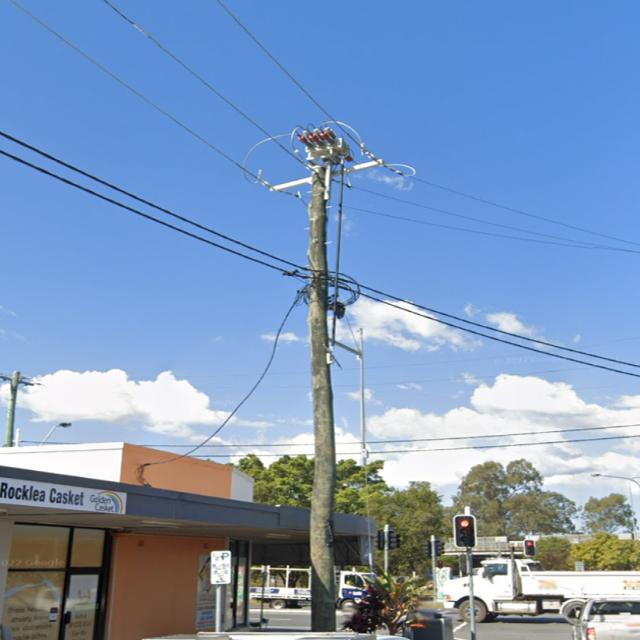HV-switch: (297, 126, 355, 168)
crossarm: (257, 152, 404, 199), (0, 374, 35, 386)
steel-pole: (464, 505, 476, 640), (430, 534, 437, 607), (384, 524, 390, 573)
streetlight: (40, 422, 73, 446), (591, 473, 639, 486)
timber-pole: (306, 164, 338, 632), (5, 369, 21, 447)
traffic-light: (452, 514, 478, 548), (374, 530, 402, 550), (423, 539, 445, 557), (523, 539, 536, 557), (437, 560, 443, 568)
